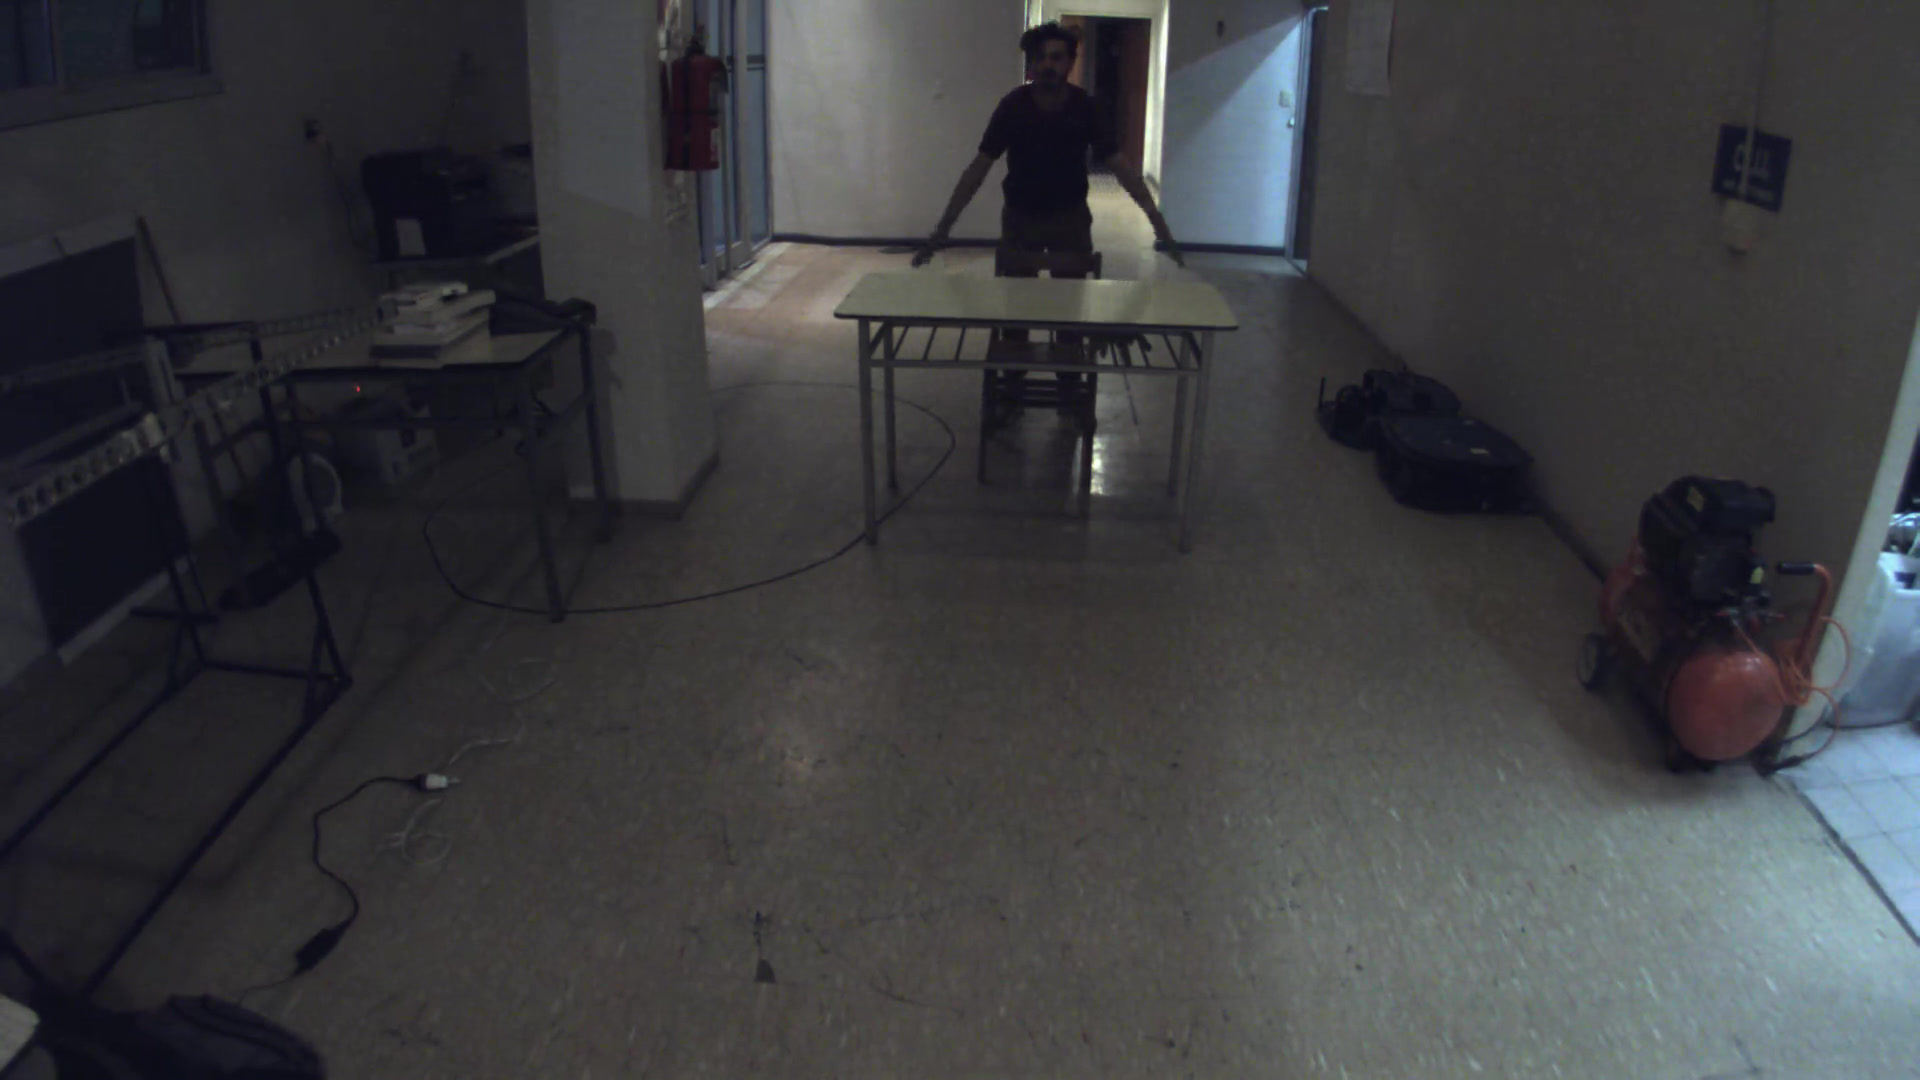hand: (903, 225, 971, 268)
